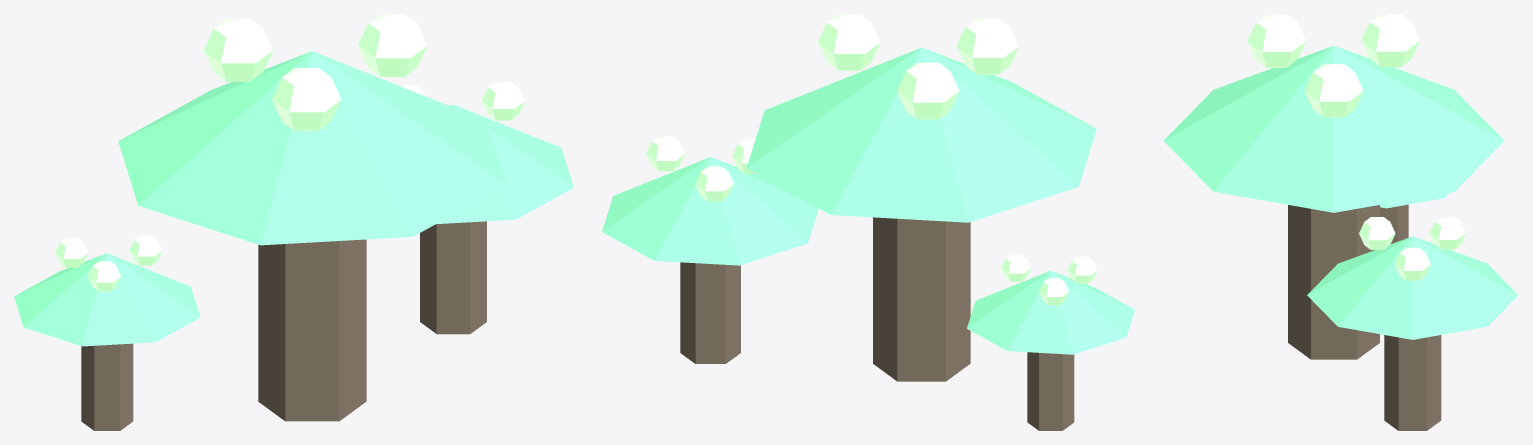
Rendered from glow_mushroom.glb.
3 renders of one model, left to right at view 1: azimuth 30°, elevation 25°; view 2: azimuth 150°, elevation 25°; view 3: azimuth 270°, elevation 25°, orthographic. The views are drawn at different scales.
Parts seen in each view (by area): view 1: glow_mushroom; view 2: glow_mushroom; view 3: glow_mushroom.
Part boxes in pixels (box(x1,y1,x2,y2)): glow_mushroom: box(14, 14, 573, 430); glow_mushroom: box(602, 14, 1134, 430); glow_mushroom: box(1163, 14, 1518, 430).
Size of the model in its own units: 0.826 by 0.525 by 0.5412.
